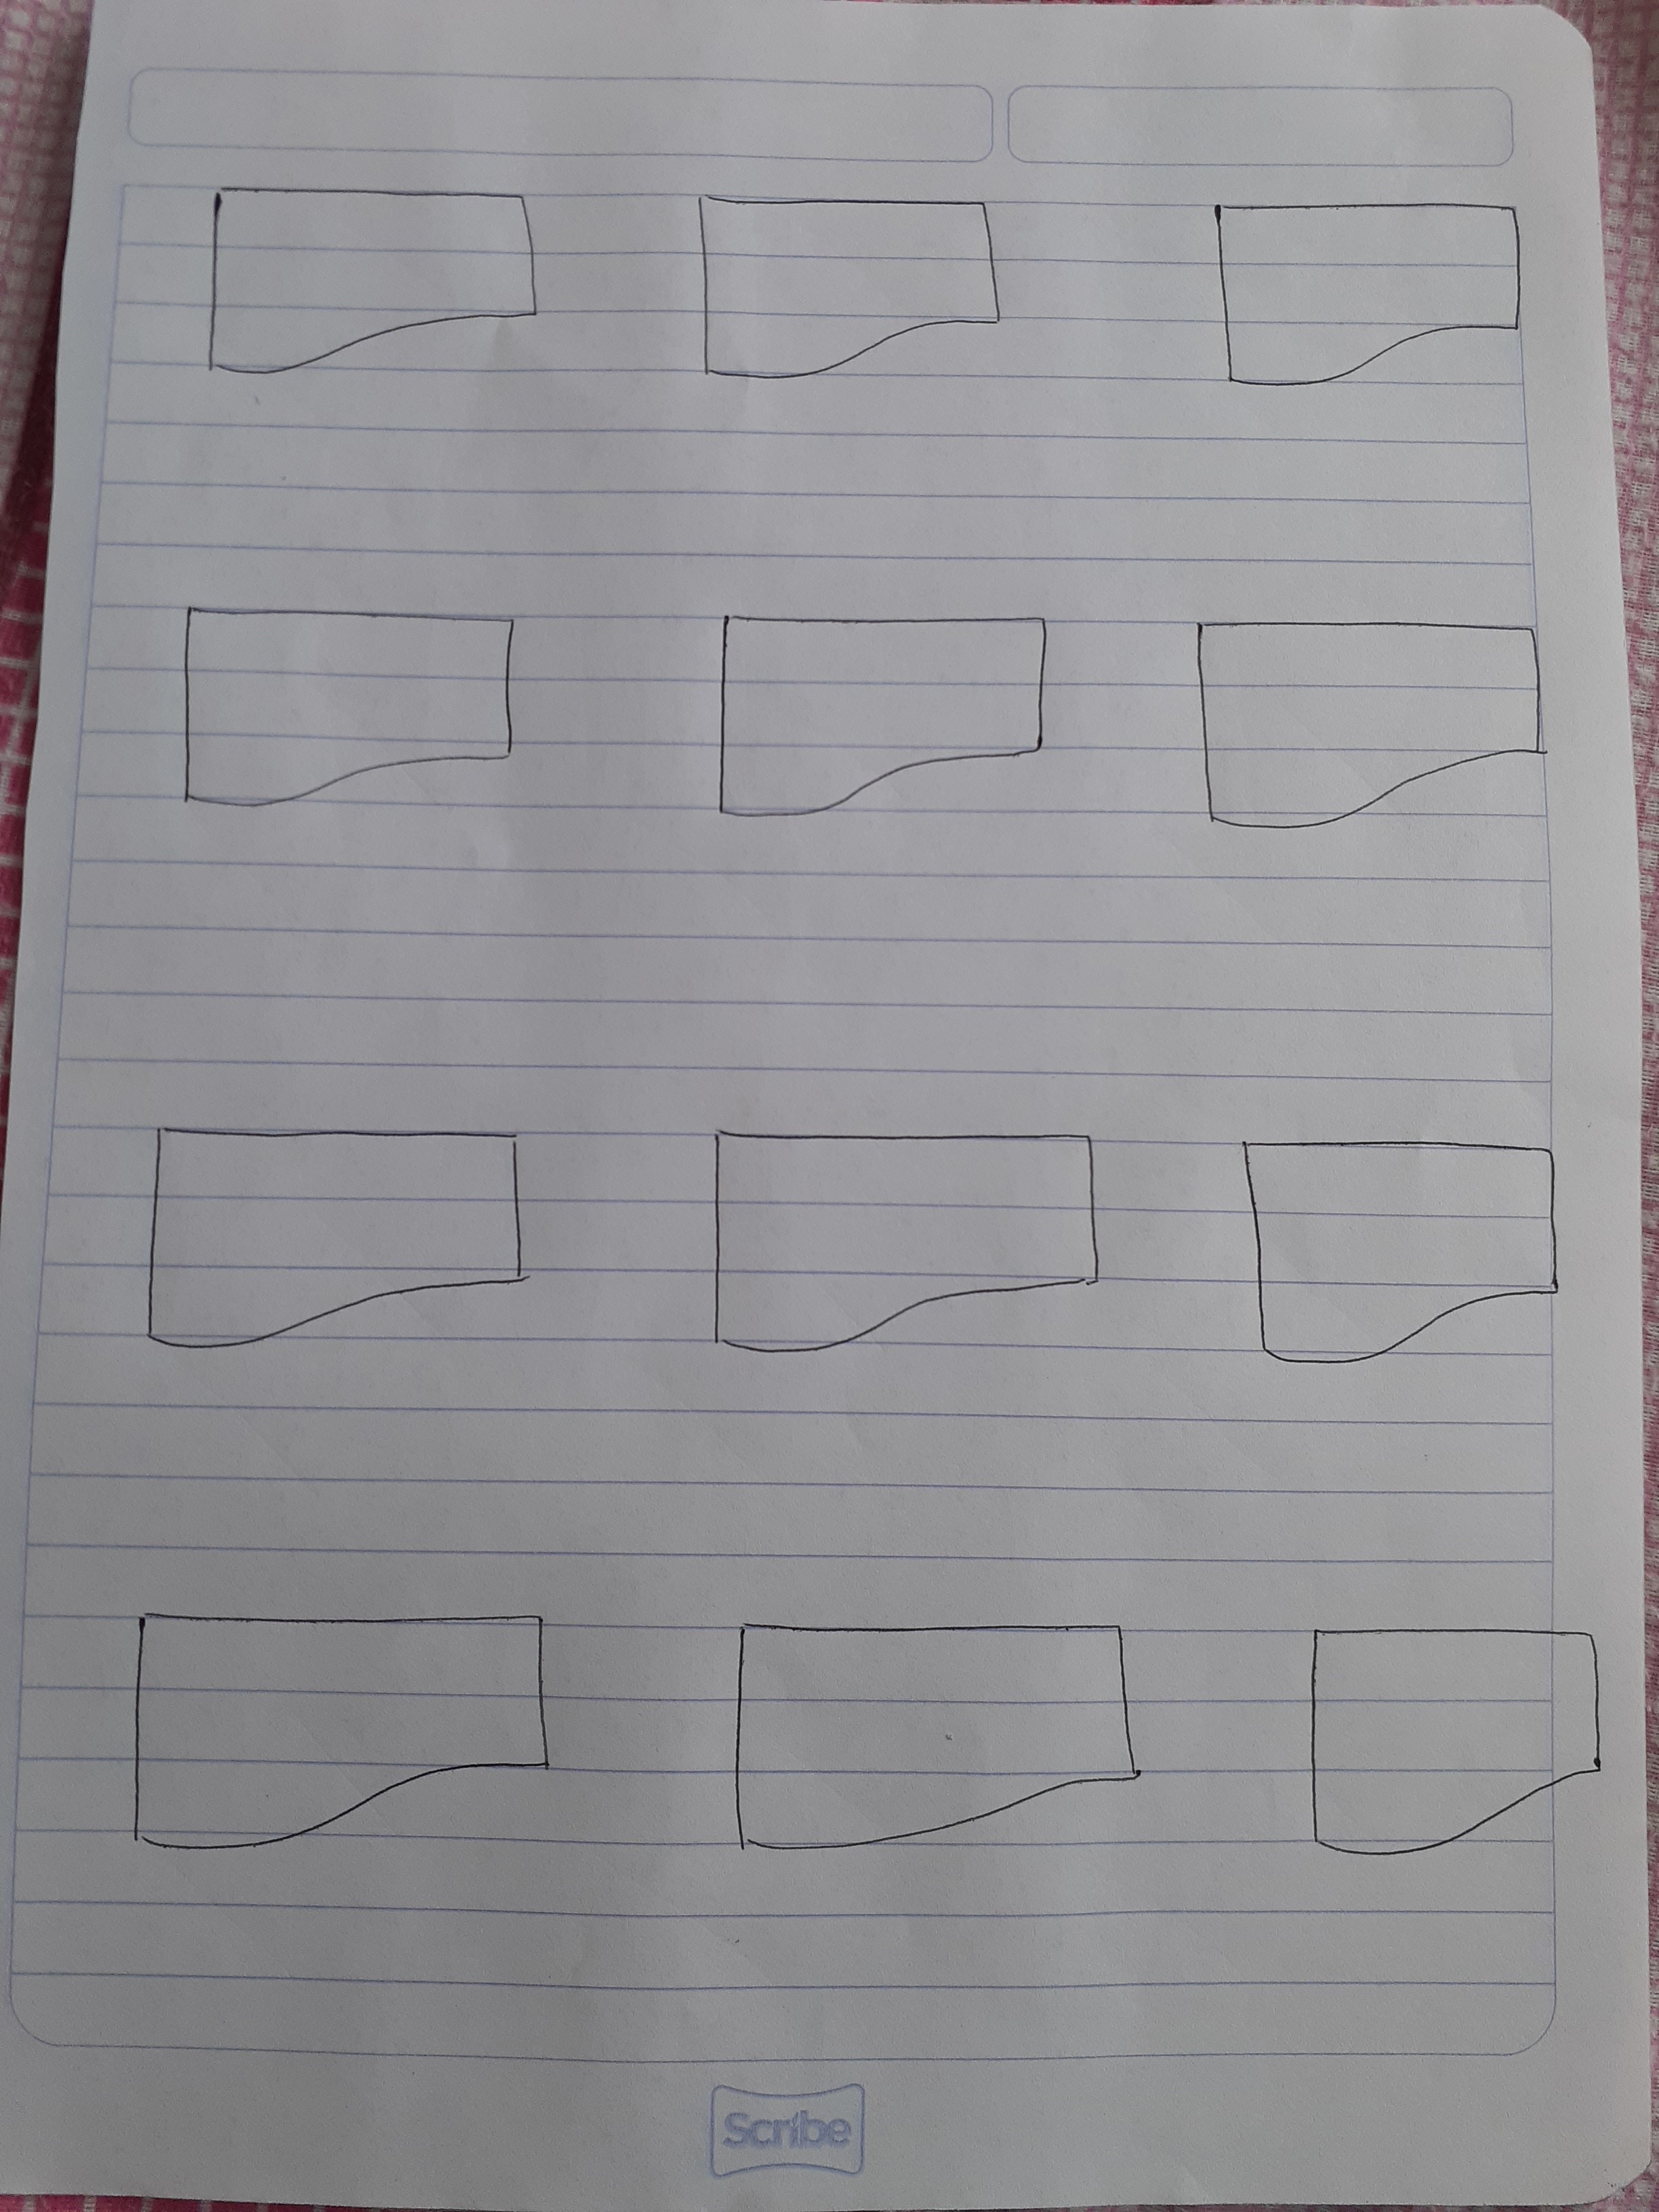print: (103, 1561, 566, 1885), (702, 1564, 1176, 1872), (99, 1085, 552, 1397), (1197, 1078, 1589, 1414), (678, 1099, 1140, 1367), (139, 578, 533, 852), (1176, 583, 1560, 855), (1281, 1594, 1624, 1883), (685, 583, 1061, 845), (685, 143, 1018, 425), (1194, 167, 1553, 428), (200, 134, 563, 385)
